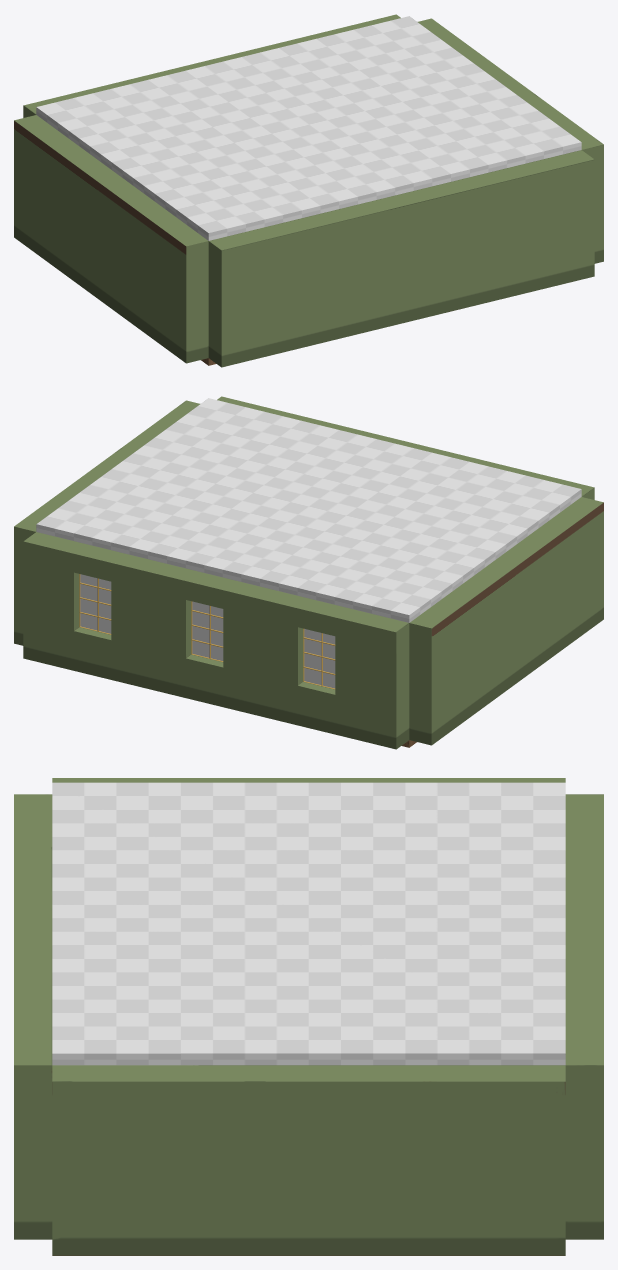
The model's file is classroom.fbx.
3 views of the same model, one above another, from view 1: azimuth 30°, elevation 25°; view 2: azimuth 150°, elevation 25°; view 3: azimuth 270°, elevation 25° (orthographic). The views are drawn at different scales.
Visible parts, largest first — view 1: Walls, Ceiling; view 2: Walls, Ceiling, Glass, Window; view 3: Ceiling, Walls.
Part boxes in pixels (<box>): Walls: <box>14,14,603,367</box>; Ceiling: <box>36,16,581,240</box>; Walls: <box>14,396,603,749</box>; Ceiling: <box>36,398,581,622</box>; Glass: <box>80,574,335,688</box>; Window: <box>79,574,335,689</box>; Ceiling: <box>52,782,565,1065</box>; Walls: <box>14,778,603,1255</box>.
Size of the model in its own units: 1120 by 340 by 920.
